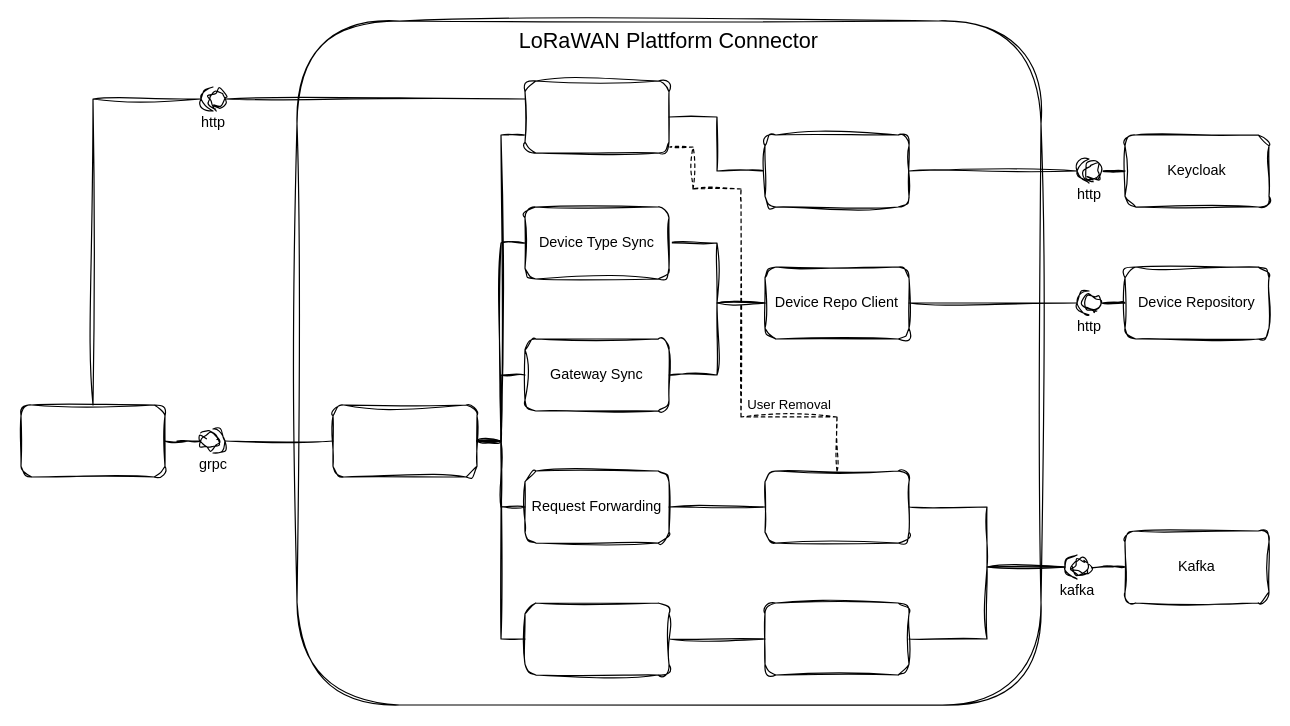
Image size: 1290x726. Some labels were removed from this diagram. The shapes that lost their labels are listed below. From the top down, each one's centre as x and y in pixels, then its label:
(x=596, y=116): Provisioner
(x=836, y=170): Keycloak Client
(x=92, y=440): Chirpstack
(x=404, y=440): Chirpstack Client
(x=836, y=506): Kafka Subscriber
(x=596, y=638): Event Forwarding
(x=836, y=638): Kafka Producer
